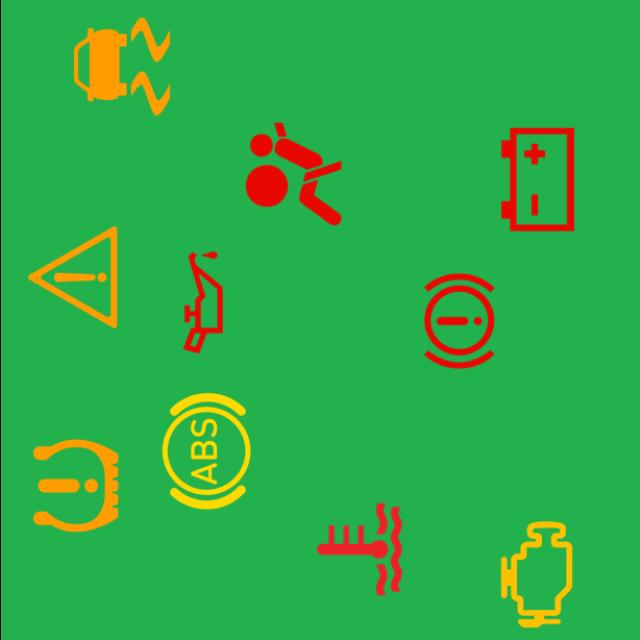Anti Lock Braking System: (142, 388, 269, 515)
Braking System Issue: (395, 258, 522, 384)
Charging System Issue: (474, 116, 600, 243)
Check Engine: (472, 511, 600, 638)
Electronic Stability Problem -ESP-: (58, 3, 184, 130)
Engine Overheating Warning Light: (295, 486, 422, 613)
Low Engine Oil Warning Light: (138, 239, 266, 366)
Low Tire Pressure Warning Light: (12, 422, 138, 549)
Master warning light: (9, 214, 136, 341)
SRS-Airbag: (230, 110, 356, 238)
